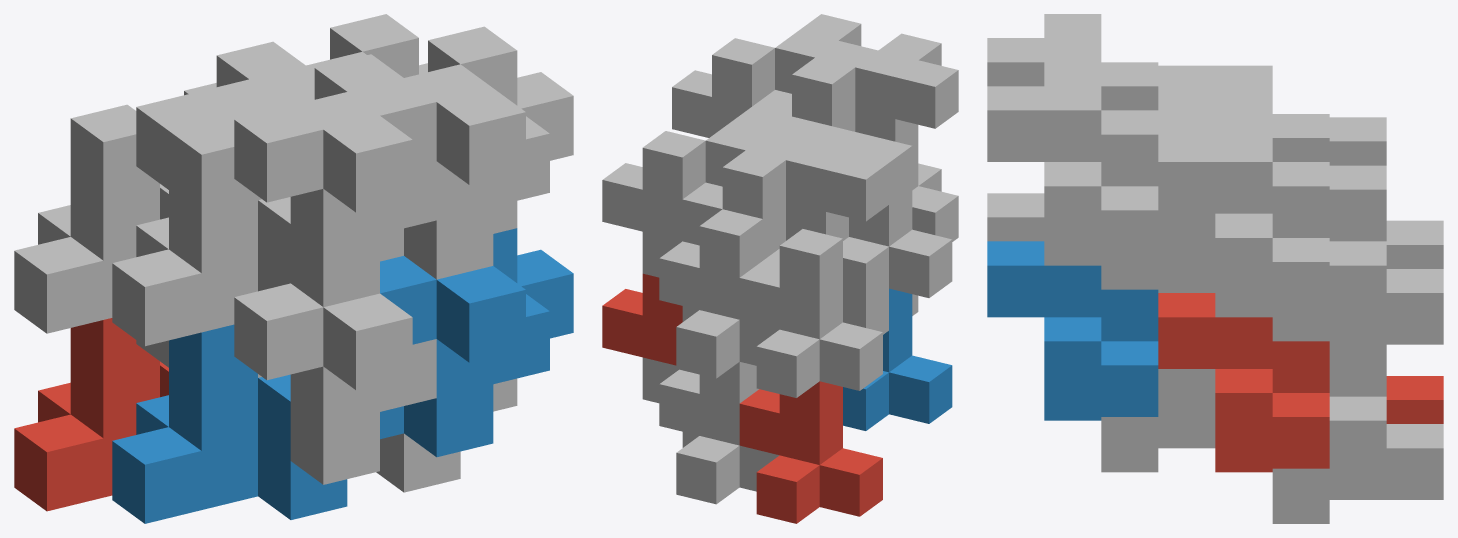
Rendered from tiling.obj.
The picture shows the model from 3 angles, left to right: view 1: azimuth 30°, elevation 25°; view 2: azimuth 150°, elevation 25°; view 3: azimuth 270°, elevation 25°; orthographic projection. The views are drawn at different scales.
Parts seen in each view (by area): view 1: copy_2_domain_4, copy_2_domain_8, copy_1_domain_2, copy_1_domain_4, copy_2_domain_2, copy_2_domain_6, copy_1_domain_3, copy_1_domain_1, copy_2_domain_3, copy_2_domain_7, copy_1_domain_6, copy_1_domain_8; view 2: copy_1_domain_3, copy_2_domain_3, copy_1_domain_1, copy_2_domain_4, copy_1_domain_7, copy_2_domain_7, copy_1_domain_5, copy_2_domain_8, copy_1_domain_4, copy_1_domain_2, copy_2_domain_5, copy_2_domain_2 (+2 smaller); view 3: copy_2_domain_7, copy_2_domain_8, copy_2_domain_6, copy_2_domain_5, copy_1_domain_5, copy_1_domain_7, copy_2_domain_4, copy_1_domain_6, copy_1_domain_8, copy_2_domain_3, copy_1_domain_3, copy_2_domain_2 (+2 smaller).
Boxes of the visible parts, left/top/right/bottom form: copy_2_domain_4: left=234, top=54, right=436, bottom=307; copy_2_domain_8: left=348, top=26, right=573, bottom=279; copy_1_domain_2: left=112, top=324, right=403, bottom=523; copy_1_domain_4: left=112, top=117, right=403, bottom=346; copy_2_domain_2: left=234, top=283, right=436, bottom=484; copy_2_domain_6: left=380, top=228, right=573, bottom=457; copy_1_domain_3: left=14, top=104, right=168, bottom=333; copy_1_domain_1: left=14, top=318, right=168, bottom=511; copy_2_domain_3: left=136, top=41, right=305, bottom=199; copy_2_domain_7: left=250, top=14, right=427, bottom=102; copy_1_domain_6: left=376, top=378, right=517, bottom=492; copy_1_domain_8: left=282, top=95, right=517, bottom=233; copy_1_domain_3: left=739, top=229, right=882, bottom=397; copy_2_domain_3: left=682, top=126, right=888, bottom=260; copy_1_domain_1: left=739, top=381, right=882, bottom=523; copy_2_domain_4: left=752, top=33, right=958, bottom=190; copy_1_domain_7: left=642, top=209, right=779, bottom=378; copy_2_domain_7: left=602, top=107, right=808, bottom=241; copy_1_domain_5: left=642, top=357, right=778, bottom=504; copy_2_domain_8: left=672, top=14, right=877, bottom=137; copy_1_domain_4: left=843, top=136, right=952, bottom=305; copy_1_domain_2: left=843, top=288, right=952, bottom=430; copy_2_domain_5: left=602, top=273, right=682, bottom=365; copy_2_domain_2: left=912, top=163, right=958, bottom=315; copy_2_domain_7: left=1158, top=114, right=1329, bottom=317; copy_2_domain_8: left=987, top=62, right=1158, bottom=265; copy_2_domain_6: left=987, top=241, right=1158, bottom=420; copy_2_domain_5: left=1158, top=293, right=1329, bottom=472; copy_1_domain_5: left=1272, top=344, right=1443, bottom=523; copy_1_domain_7: left=1272, top=165, right=1443, bottom=344; copy_2_domain_4: left=987, top=14, right=1158, bottom=110; copy_1_domain_6: left=1101, top=369, right=1215, bottom=472; copy_1_domain_8: left=1101, top=114, right=1215, bottom=292; copy_2_domain_3: left=1158, top=65, right=1329, bottom=161; copy_1_domain_3: left=1329, top=117, right=1443, bottom=268; copy_2_domain_2: left=987, top=193, right=1044, bottom=241.
Size of the model in its own units: 7 by 8 by 8.
